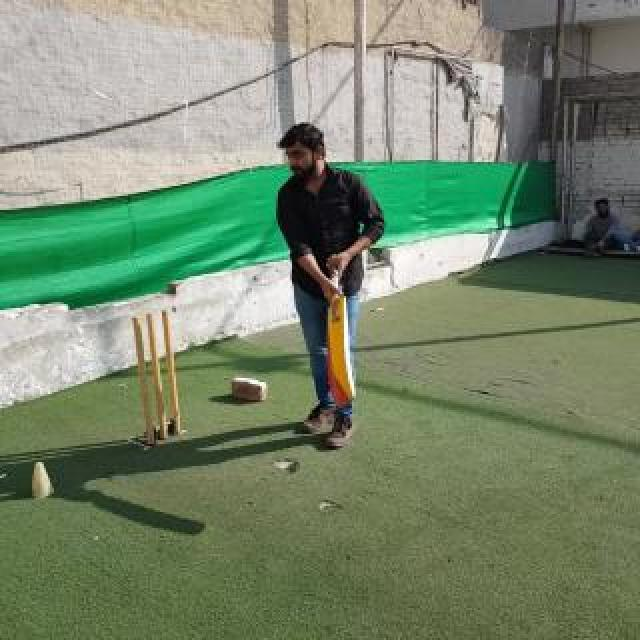bat: (327, 253, 355, 407)
